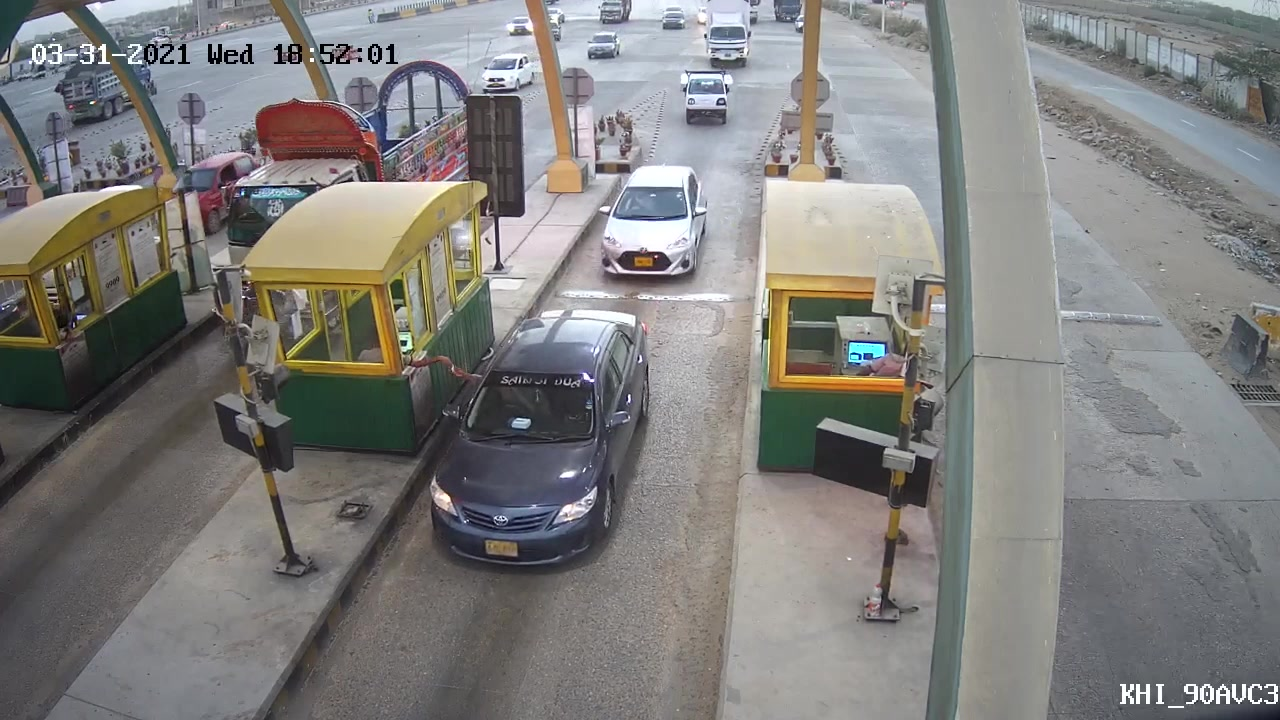F1: (413, 307, 658, 569), (596, 163, 710, 279)
